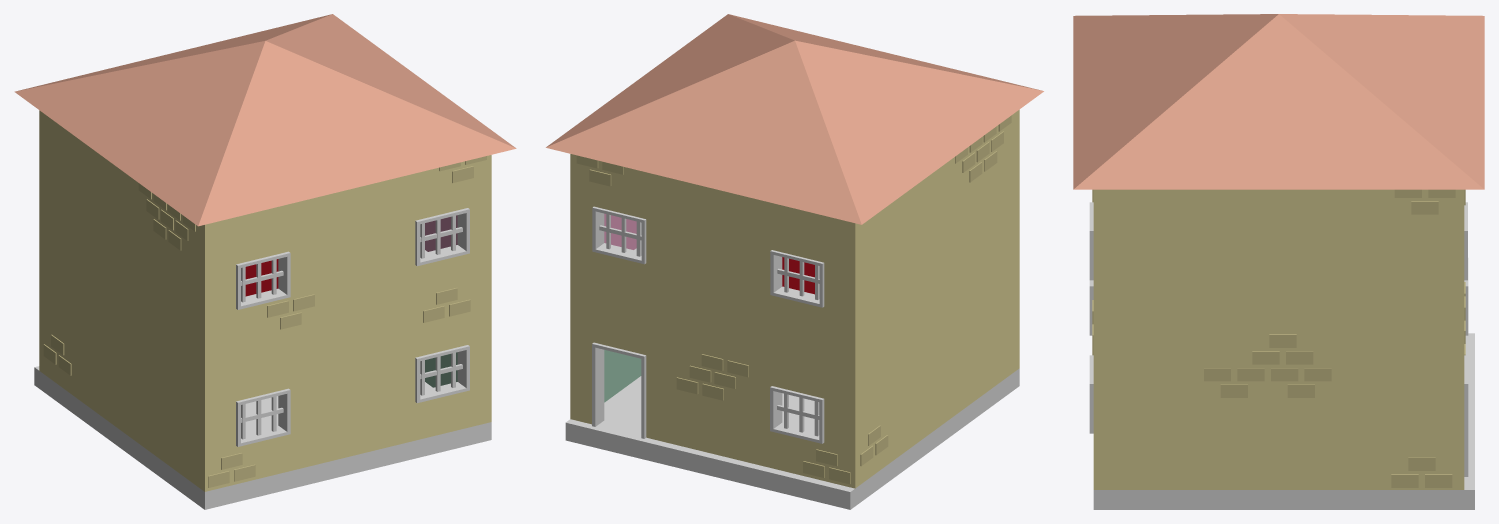
Rendered from House5.fbx.
3 renders of one model, left to right at view 1: azimuth 30°, elevation 25°; view 2: azimuth 150°, elevation 25°; view 3: azimuth 270°, elevation 25°, orthographic. The views are drawn at different scales.
Parts seen in each view (by area): view 1: House5; view 2: House5; view 3: House5.
Part boxes in pixels (x1,y1,x2,y2): House5: [14, 14, 516, 509]; House5: [546, 14, 1043, 509]; House5: [1073, 14, 1484, 509].
Bounding box in the file's own units: 8.89 × 8.89 × 9.95.
